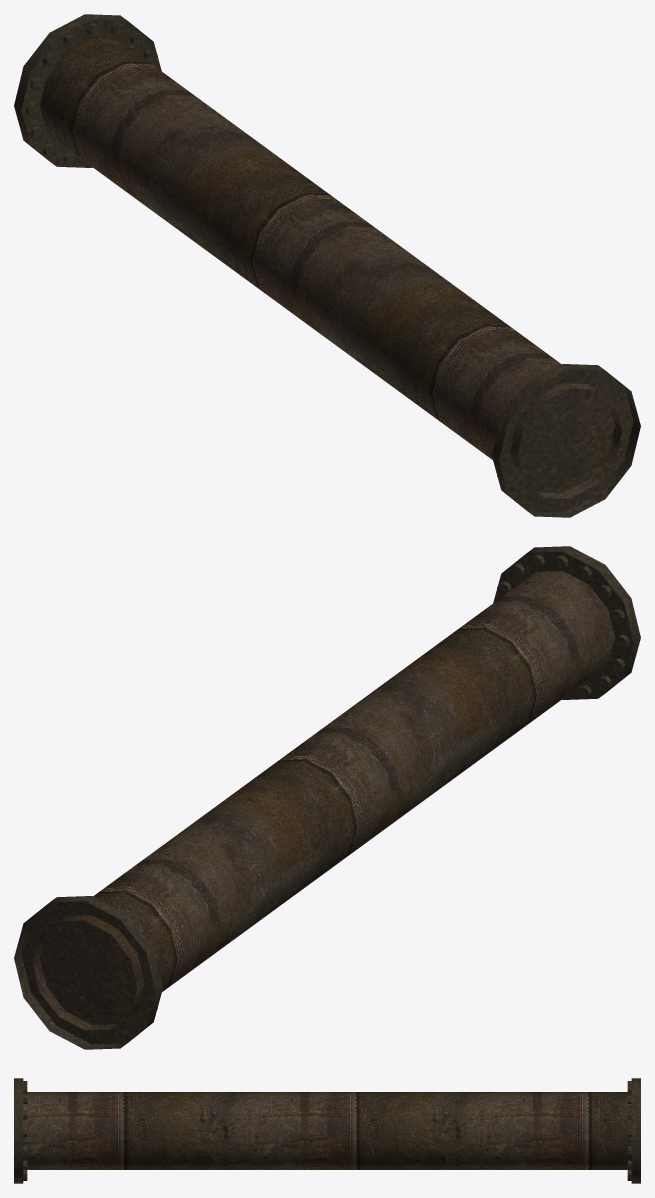
The model's file is pipe_bx_1.glb.
3 views of the same model, one above another, from view 1: azimuth 30°, elevation 25°; view 2: azimuth 150°, elevation 25°; view 3: azimuth 270°, elevation 25° (orthographic). The views are drawn at different scales.
Parts seen in each view (by area): view 1: pipe_bx_1; view 2: pipe_bx_1; view 3: pipe_bx_1.
Part boxes in pixels (x1=…): pipe_bx_1: x1=14, y1=14, x2=640, y2=517; pipe_bx_1: x1=14, y1=546, x2=640, y2=1049; pipe_bx_1: x1=14, y1=1078, x2=640, y2=1183.
Size of the model in its own units: 0.676 by 0.676 by 4.
2 materials, 2 textured.
